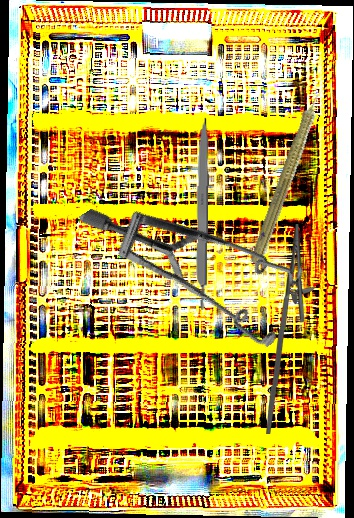Handpiece: (246, 76, 335, 269)
Needle Holder: (264, 223, 317, 435)
Scalpel Handle: (193, 116, 210, 313)
Speculum: (78, 131, 328, 395)
